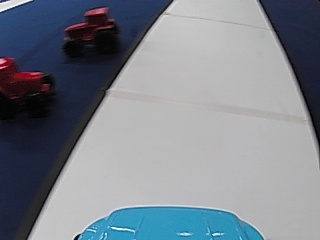tractor: (60, 4, 121, 58), (1, 54, 53, 117)
